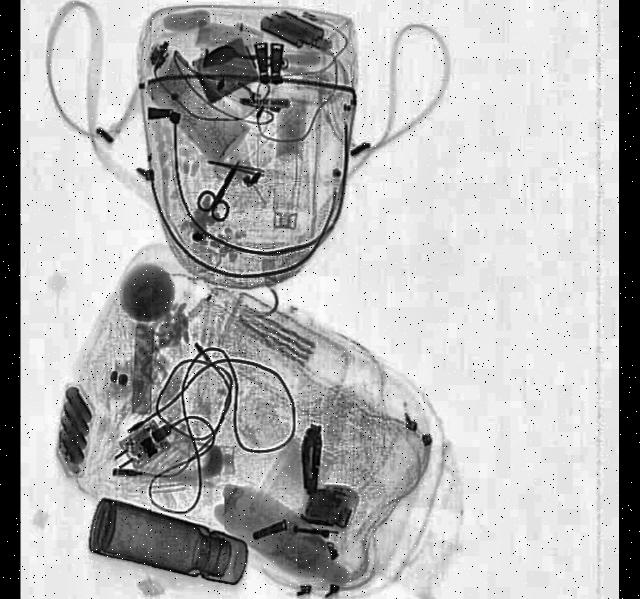Scissors: (196, 148, 253, 223)
